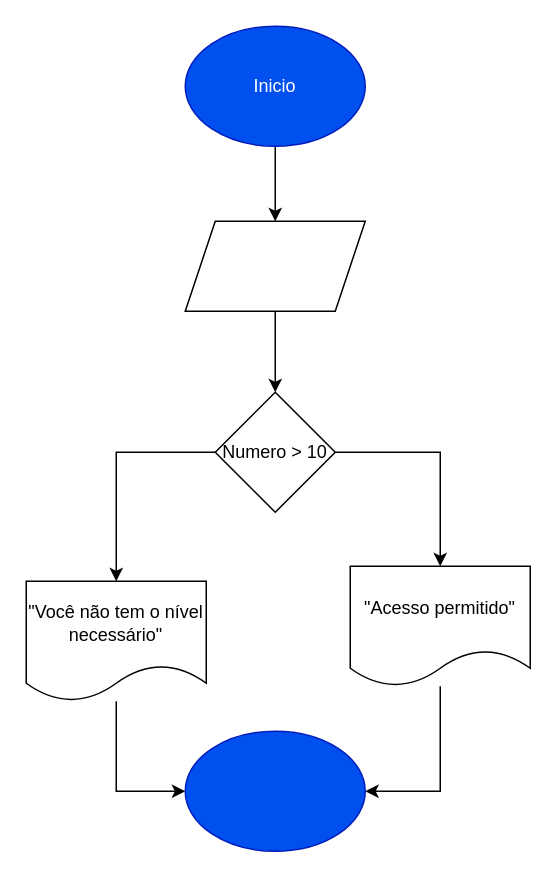
This 557x878 diagram has some shape labels left out. Each missing label, with the box of its shape:
Fim: (184, 730, 365, 851)
Numero: (184, 220, 365, 311)
